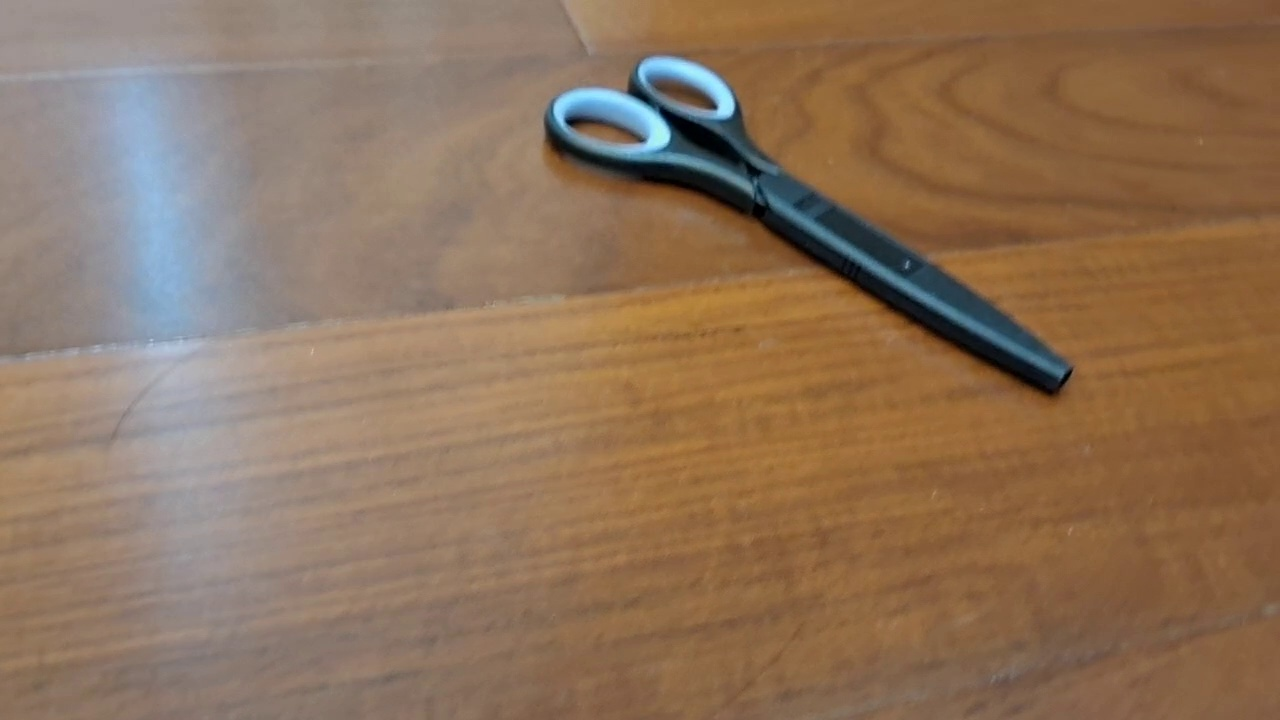scissors: (543, 52, 1074, 396)
